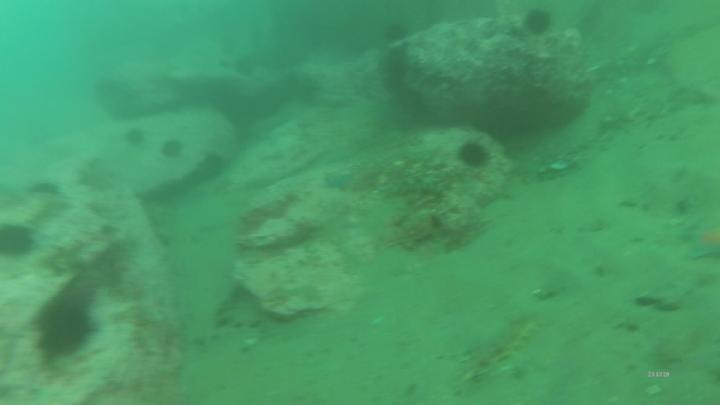echinus: (29, 294, 105, 365), (1, 221, 42, 255), (459, 140, 495, 174), (524, 8, 556, 40), (158, 137, 190, 164), (124, 127, 153, 150)
holothurian: (456, 306, 545, 383)
starfish: (682, 218, 720, 267), (324, 165, 358, 198)
